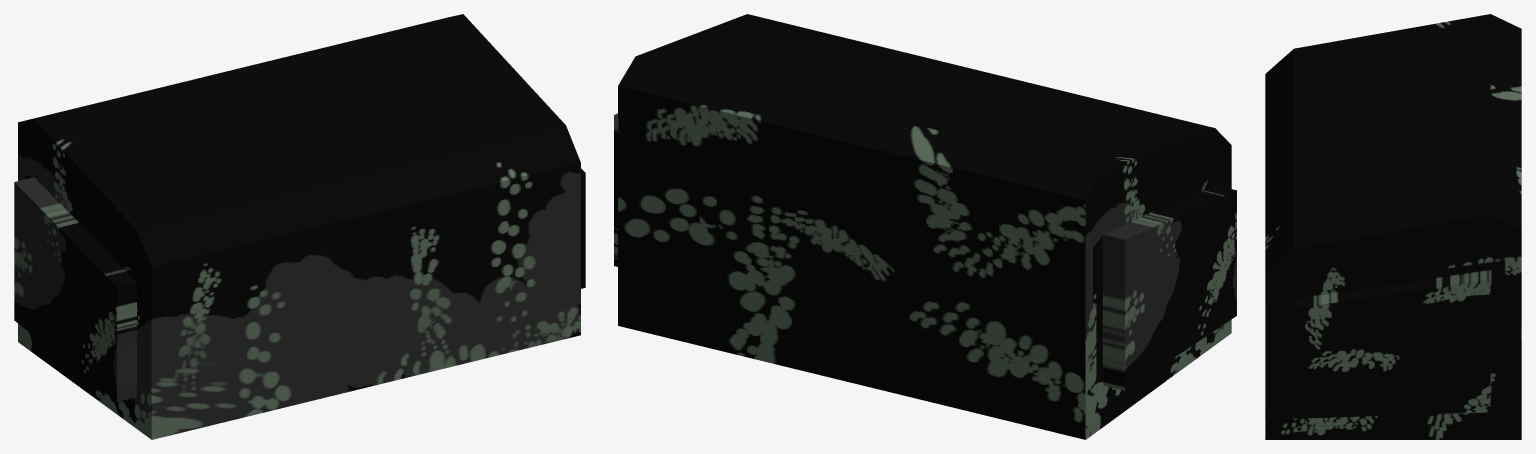
Rendered from dumpster.glb.
The picture shows the model from 3 angles, left to right: view 1: azimuth 30°, elevation 25°; view 2: azimuth 150°, elevation 25°; view 3: azimuth 270°, elevation 25°; orthographic projection. The views are drawn at different scales.
Parts seen in each view (by area): view 1: tempat sampah; view 2: tempat sampah; view 3: tempat sampah.
Part boxes in pixels (x1,y1,x2,y2): tempat sampah: (14, 14, 585, 439); tempat sampah: (614, 14, 1236, 439); tempat sampah: (1265, 14, 1521, 439).
Bounding box in the file's own units: 2.5 × 1.2 × 1.24.
1 material, 1 textured.
